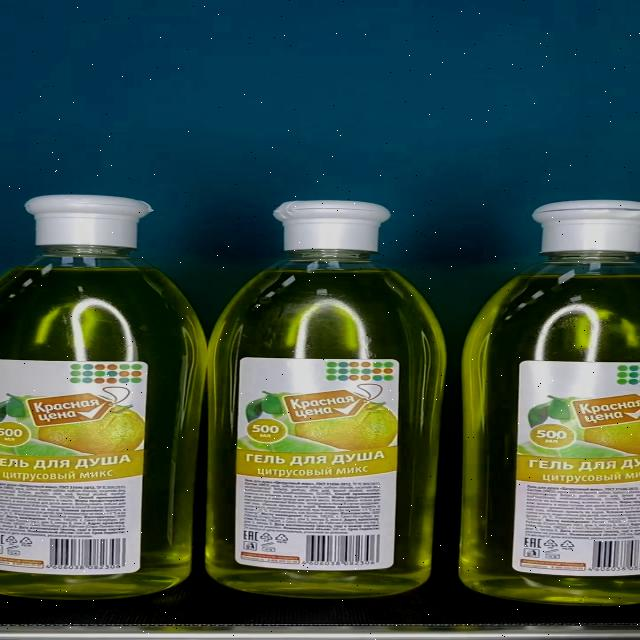Bottle: (207, 200, 446, 600), (0, 194, 208, 598)
Cap: (25, 195, 152, 247), (272, 200, 391, 250)
